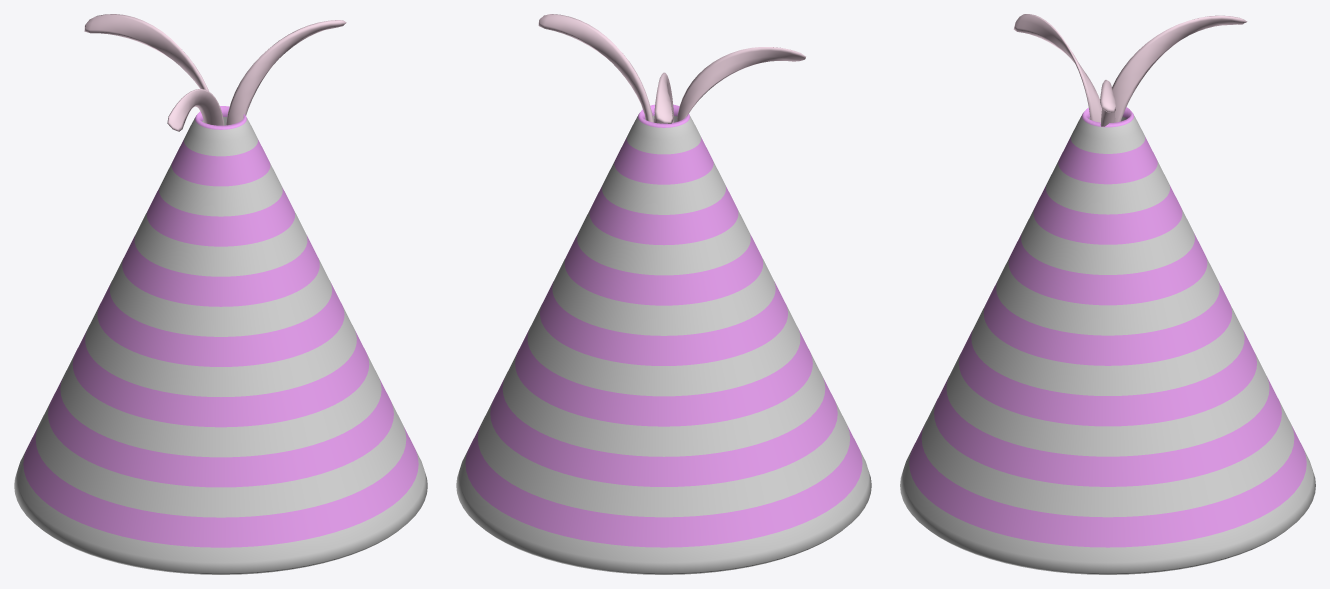
The model's file is Jester.gltf.
3 views of the same model, side by side, from view 1: azimuth 30°, elevation 25°; view 2: azimuth 150°, elevation 25°; view 3: azimuth 270°, elevation 25° (orthographic).
Visible parts, largest first — view 1: hat2-PBR.1, hat2-PBR, hat2-PBR.2; view 2: hat2-PBR.1, hat2-PBR, hat2-PBR.2; view 3: hat2-PBR.1, hat2-PBR, hat2-PBR.2.
Boxes of the visible parts, left/top/right/bottom form: hat2-PBR.1: left=14, top=117, right=427, bottom=574; hat2-PBR: left=23, top=106, right=418, bottom=547; hat2-PBR.2: left=84, top=14, right=346, bottom=131; hat2-PBR.1: left=456, top=115, right=871, bottom=574; hat2-PBR: left=465, top=104, right=862, bottom=547; hat2-PBR.2: left=538, top=14, right=805, bottom=123; hat2-PBR.1: left=900, top=115, right=1315, bottom=574; hat2-PBR: left=909, top=107, right=1306, bottom=547; hat2-PBR.2: left=1013, top=14, right=1247, bottom=126.
Size of the model in its own units: 6.42 by 7.67 by 6.42.
